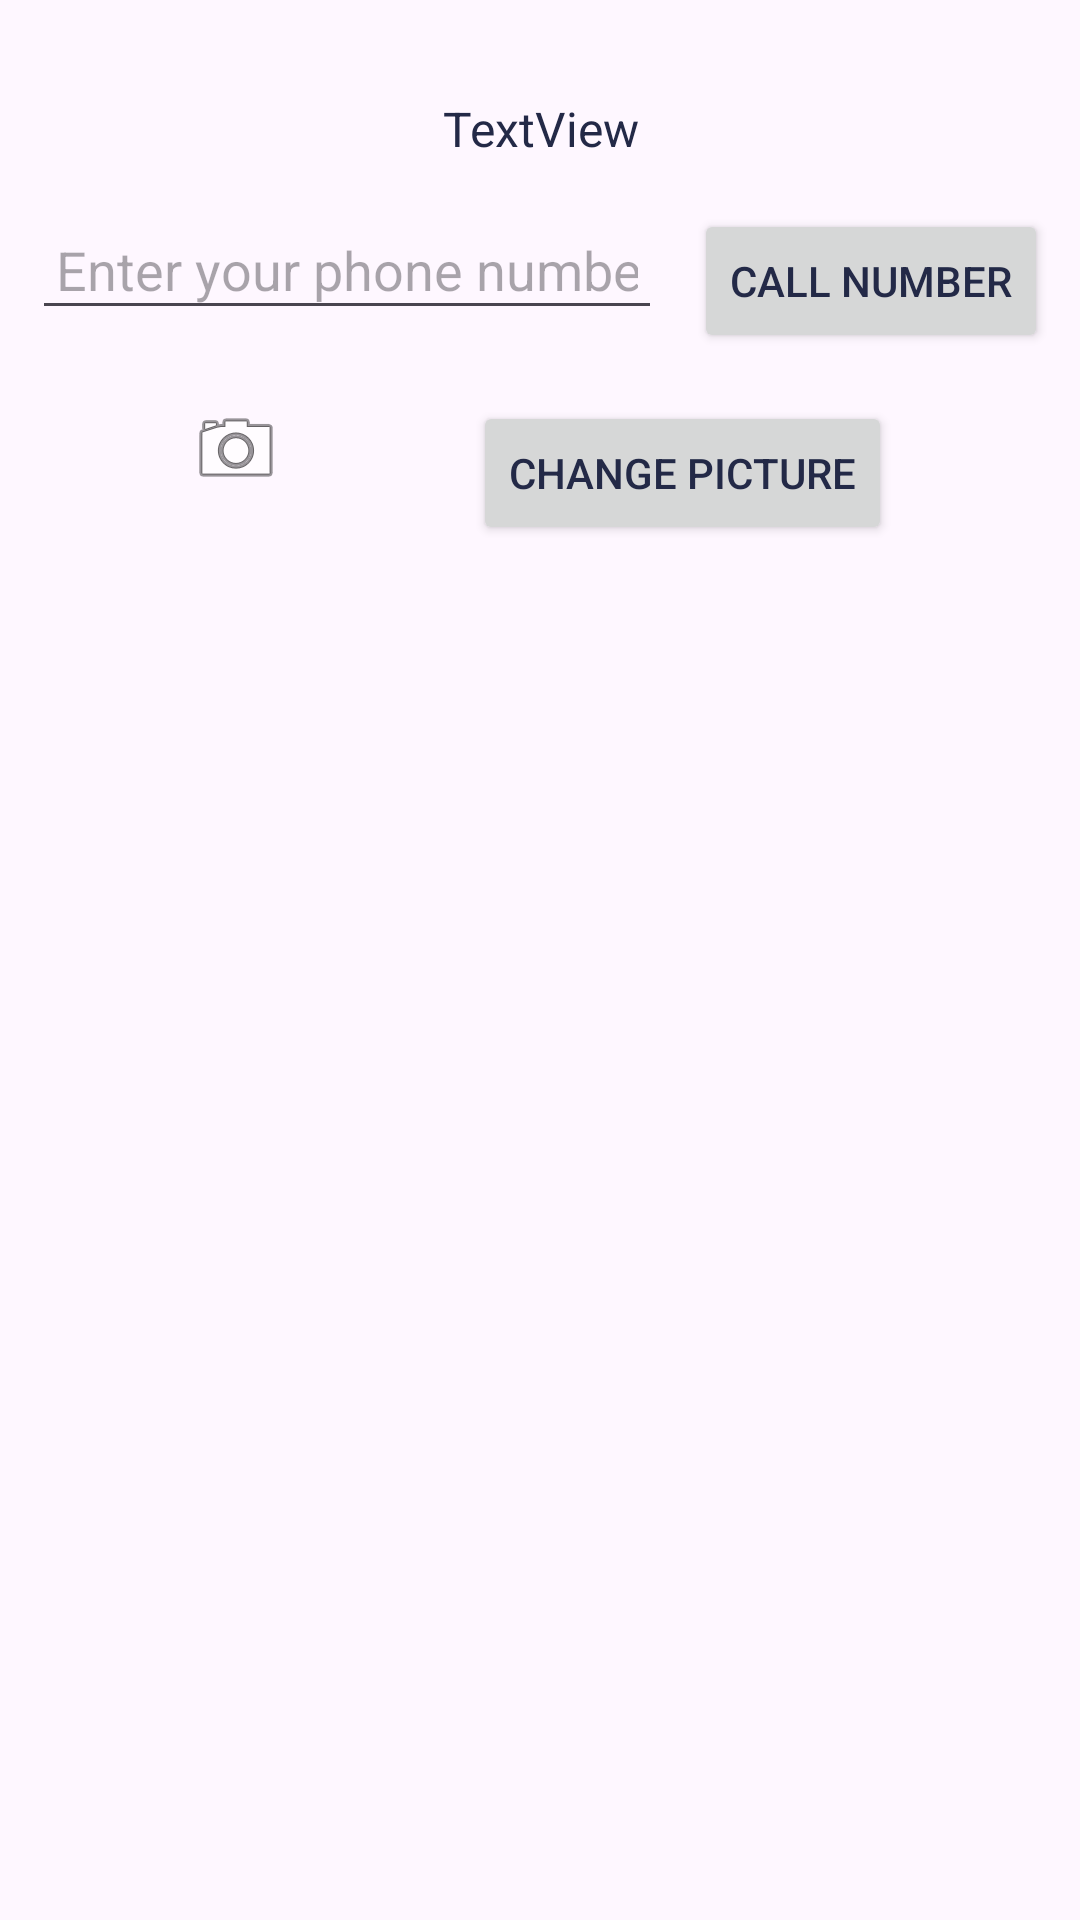

Icon bounding boxes for this 1080w x 1920h phone screenshot, format (x1, y1, x2, y2):
camera: (199, 418, 273, 477)
